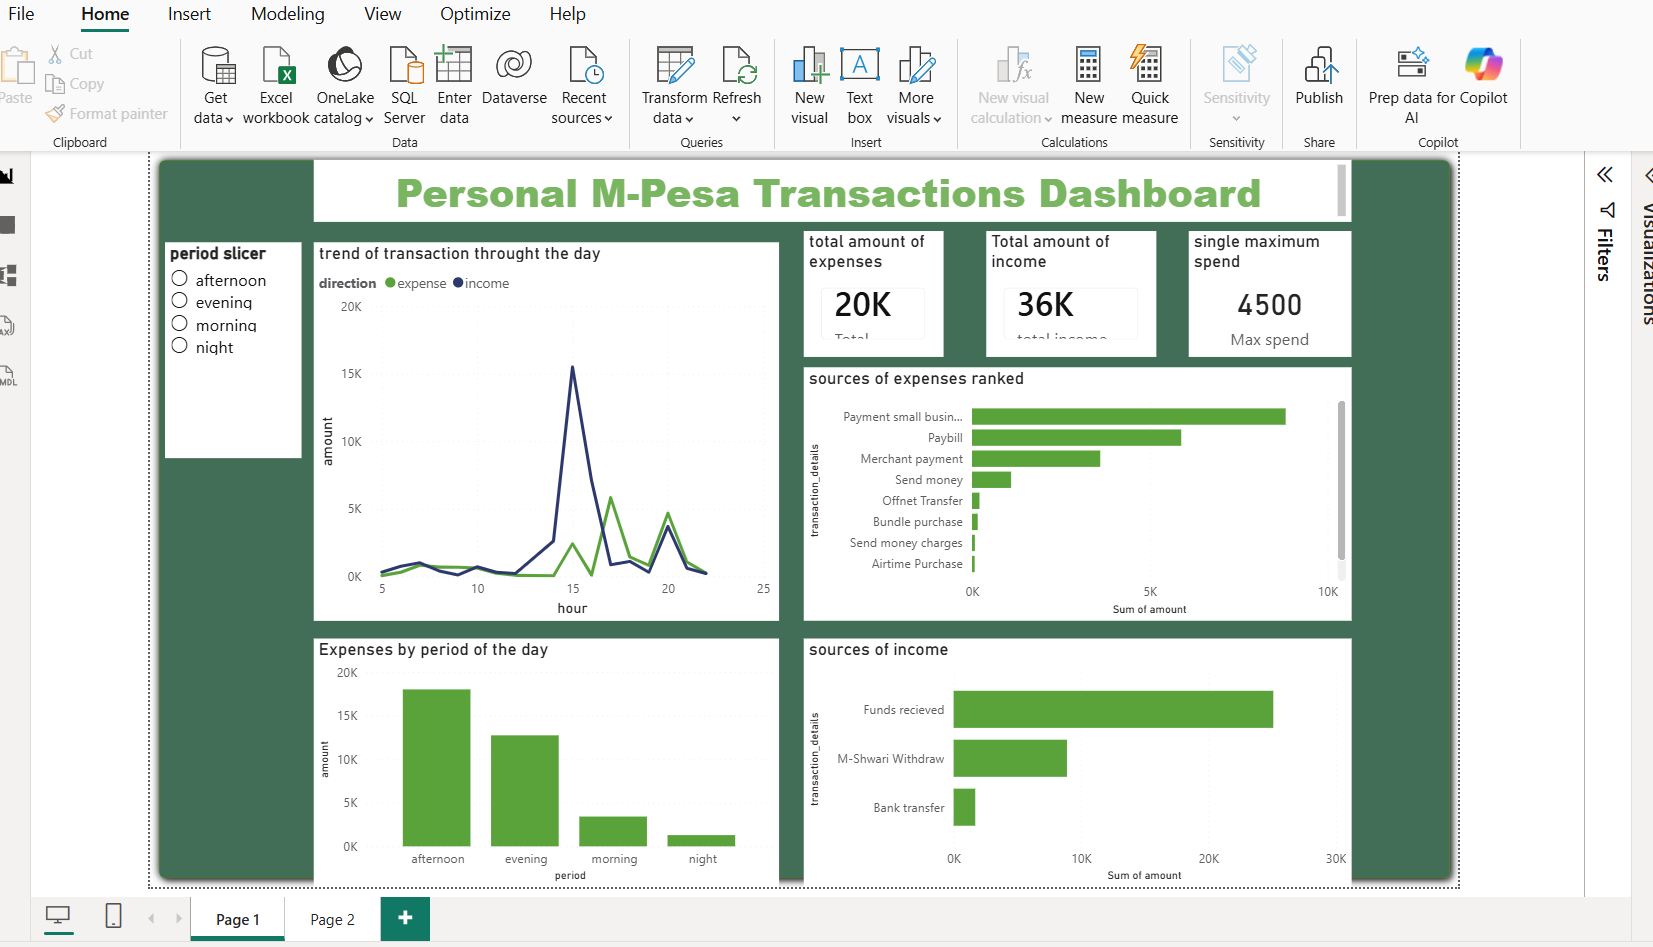

This screenshot's page, from the dashboard's own definition file:
{"tool":"powerbi","page":{"name":"Page 1","canvas":[1280,720],"ordinal":0},"visuals":[{"type":"shape","box":[0,0,1280.3,720.2],"z":0},{"type":"lineChart","title":"trend of transaction throught the day","fields":{"Category":["statements_cleaned.hour"],"Y":["Sum(statements_cleaned.amount)"],"Series":["statements_cleaned.direction"]},"box":[160.2,89.3,454.9,370.5],"z":1000},{"type":"clusteredColumnChart","title":"Expenses by period of the day","fields":{"Category":["statements_cleaned.period"],"Y":["Sum(statements_cleaned.amount)"]},"box":[160.2,476.9,454.9,243.3],"z":2000},{"type":"cardVisual","title":"total amount of expenses","fields":{"Data":["statements_cleaned.Total expenses"]},"box":[639.5,78.3,137,123.5],"z":3000},{"type":"card","title":"single maximum spend","fields":{"Values":["statements_cleaned.Max spend"]},"box":[1016.2,78.3,159,123.5],"z":4000},{"type":"cardVisual","title":"Total amount of income","fields":{"Data":["statements_cleaned.total income"]},"box":[818.1,78.3,166.3,123.5],"z":5000},{"type":"clusteredBarChart","title":"sources of expenses ranked","fields":{"Y":["Sum(statements_cleaned.amount)"],"Category":["statements_cleaned.transaction_details"]},"box":[639.5,211.6,535.6,248.2],"z":6000},{"type":"clusteredBarChart","title":"sources of income","fields":{"Y":["Sum(statements_cleaned.amount)"],"Category":["statements_cleaned.transaction_details"]},"box":[639.5,476.9,535.6,243.3],"z":7000},{"type":"textbox","box":[160.2,8.6,1015,61.1],"z":8000},{"type":"listSlicer","title":"period slicer","fields":{"Values":["statements_cleaned.period"]},"box":[14.7,89.3,133.3,211.6],"z":9000}]}

Visuals, with their boxes on the page's 1280x720 design canvas (x1, y1, x2, y2). These are canvas units, not pixel positions in the 1653x947 screenshot, which may show the page scaled, cropped or inside an application window:
shape: [x1=0, y1=0, x2=1280, y2=720]
"trend of transaction throught the day" lineChart: [x1=160, y1=89, x2=615, y2=460]
"Expenses by period of the day" clusteredColumnChart: [x1=160, y1=477, x2=615, y2=720]
"total amount of expenses" cardVisual: [x1=640, y1=78, x2=776, y2=202]
"single maximum spend" card: [x1=1016, y1=78, x2=1175, y2=202]
"Total amount of income" cardVisual: [x1=818, y1=78, x2=984, y2=202]
"sources of expenses ranked" clusteredBarChart: [x1=640, y1=212, x2=1175, y2=460]
"sources of income" clusteredBarChart: [x1=640, y1=477, x2=1175, y2=720]
textbox: [x1=160, y1=9, x2=1175, y2=70]
"period slicer" listSlicer: [x1=15, y1=89, x2=148, y2=301]
